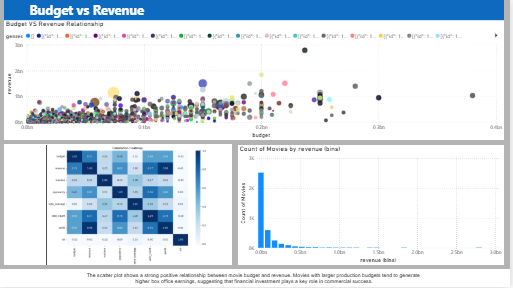

This screenshot's page, from the dashboard's own definition file:
{"tool":"powerbi","page":{"name":"Budget vs Revenue","canvas":[1280,720],"ordinal":1},"visuals":[{"type":"scatterChart","title":"Budget VS Revenue Relationship","fields":{"X":["tmdb_processed.budget"],"Size":["Sum(tmdb_processed.popularity)"],"Series":["tmdb_processed.genres.1"],"Y":["tmdb_processed.revenue (bins)"]},"box":[14.3,347,1250,318],"z":0},{"type":"textbox","box":[0,675,1280,45],"z":1000},{"type":"textbox","box":[15,0,1250,52.5],"z":2000},{"type":"cardVisual","fields":{"Data":["tmdb_processed.Average Budget"]},"box":[14.3,61.9,281,134],"z":3000},{"type":"cardVisual","fields":{"Data":["tmdb_processed.Average Revenue"]},"box":[14.3,204.8,281,133.3],"z":4000},{"type":"clusteredColumnChart","title":"Movies by Production Budget Range","fields":{"Category":["tmdb_processed.Budget Group"],"Y":["CountNonNull(tmdb_processed.title)"]},"box":[311.9,61.9,952.4,276.2],"z":5000}]}

Visuals, with their boxes in screenshot pixels (x1, y1, x2, y2), scaled from the page's 1280x720 canvas onto the 513x288 screenshot:
"Budget VS Revenue Relationship" scatterChart: 6/139/507/266
textbox: 0/270/512/287
textbox: 6/0/507/21
cardVisual - tmdb_processed.Average Budget: 6/25/118/78
cardVisual - tmdb_processed.Average Revenue: 6/82/118/135
"Movies by Production Budget Range" clusteredColumnChart: 125/25/507/135
